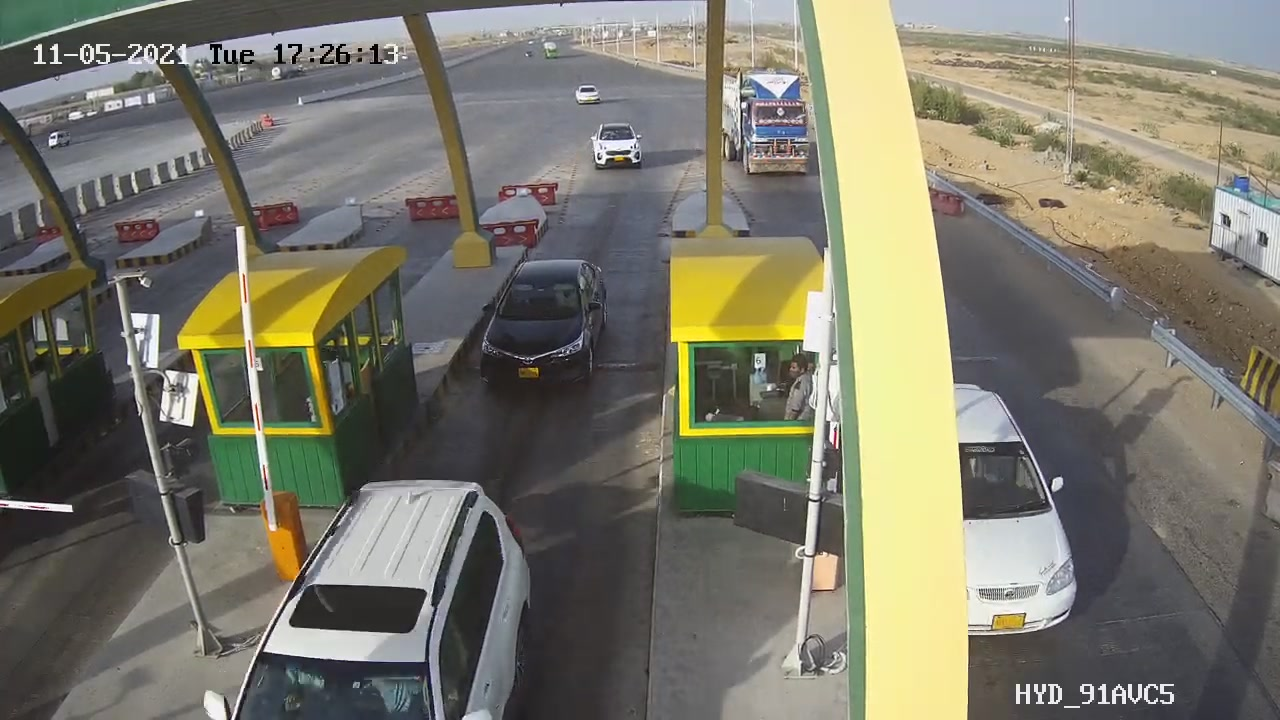F1: (459, 247, 627, 405)
